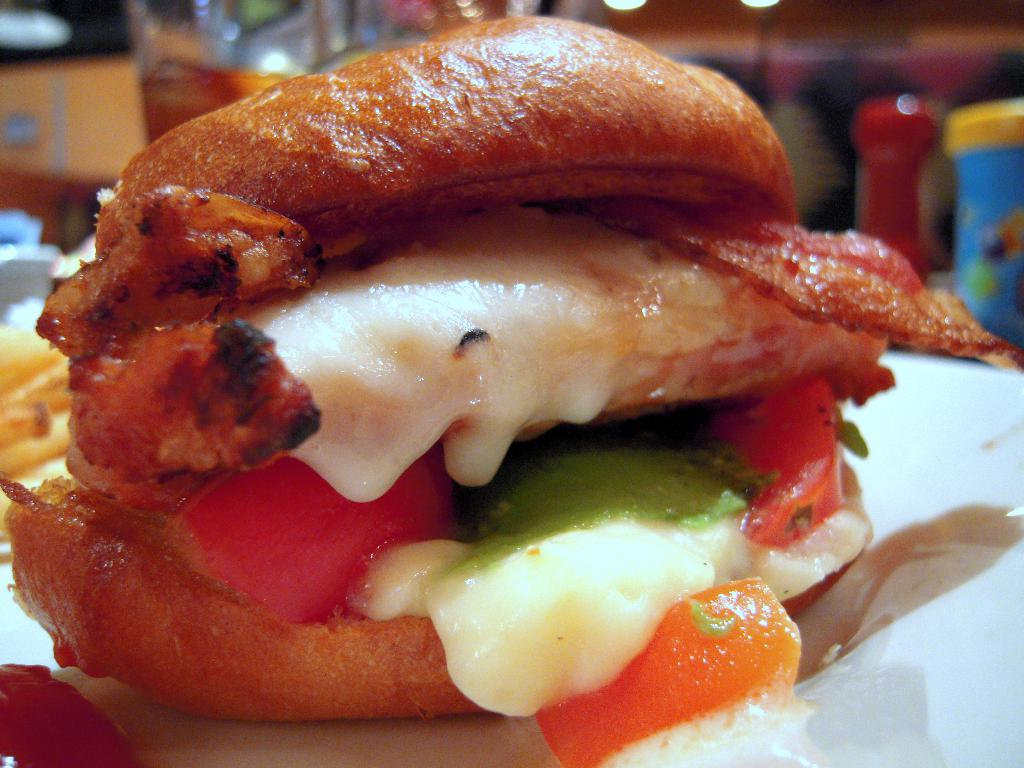Hamburger: (0, 17, 1020, 767)
